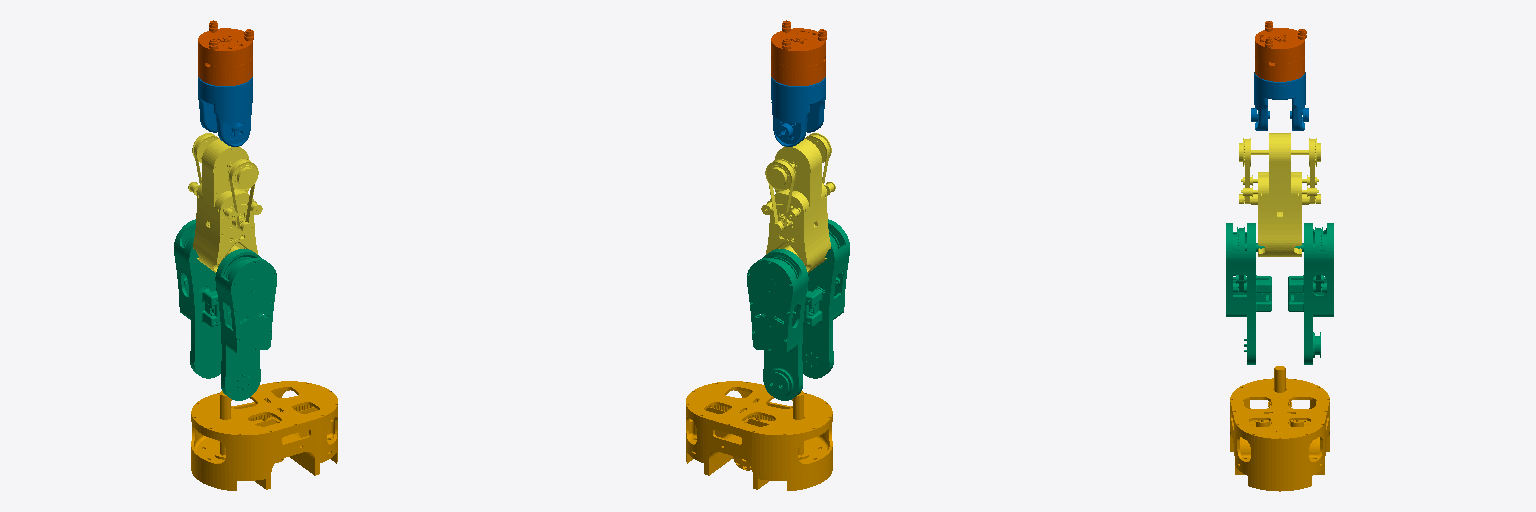
robot.urdf — robot_arm_5axis_centric:
<?xml version="1.0"?>
<robot name="robot_arm_5axis_centric">

  <link name="link1">
    <inertial>
      <origin xyz="0 0 0" rpy="0 0 0"/>
      <mass value="1.0"/>
      <inertia ixx="0.01" ixy="0" ixz="0" iyy="0.01" iyz="0" izz="0.01"/>
    </inertial>
    <visual>
      <origin xyz="0 0 0" rpy="0 0 0"/>
      <geometry>
        <mesh filename="robot_meshes/link1.stl" scale="0.001 0.001 0.001"/>
      </geometry>
    </visual>
    <collision>
      <origin xyz="0 0 0" rpy="0 0 0"/>
      <geometry>
        <mesh filename="robot_meshes/link1.stl" scale="0.001 0.001 0.001"/>
      </geometry>
    </collision>
  </link>

  <link name="link2">
    <inertial>
      <origin xyz="0 0 0" rpy="0 0 0"/>
      <mass value="1.0"/>
      <inertia ixx="0.01" ixy="0" ixz="0" iyy="0.01" iyz="0" izz="0.01"/>
    </inertial>
    <visual>
      <origin xyz="0 0 0" rpy="0 0 0"/>
      <geometry>
        <mesh filename="robot_meshes/link2.stl" scale="0.001 0.001 0.001"/>
      </geometry>
    </visual>
    <collision>
      <origin xyz="0 0 0" rpy="0 0 0"/>
      <geometry>
        <mesh filename="robot_meshes/link2.stl" scale="0.001 0.001 0.001"/>
      </geometry>
    </collision>
  </link>

  <link name="link3">
    <inertial>
      <origin xyz="0 0 0" rpy="0 0 0"/>
      <mass value="1.0"/>
      <inertia ixx="0.01" ixy="0" ixz="0" iyy="0.01" iyz="0" izz="0.01"/>
    </inertial>
    <visual>
      <origin xyz="0 0 0" rpy="0 0 0"/>
      <geometry>
        <mesh filename="robot_meshes/link3.stl" scale="0.001 0.001 0.001"/>
      </geometry>
    </visual>
    <collision>
      <origin xyz="0 0 0" rpy="0 0 0"/>
      <geometry>
        <mesh filename="robot_meshes/link3.stl" scale="0.001 0.001 0.001"/>
      </geometry>
    </collision>
  </link>

  <link name="link4">
    <inertial>
      <origin xyz="0 0 0" rpy="0 0 0"/>
      <mass value="1.0"/>
      <inertia ixx="0.01" ixy="0" ixz="0" iyy="0.01" iyz="0" izz="0.01"/>
    </inertial>
    <visual>
      <origin xyz="0 0 0" rpy="0 0 0"/>
      <geometry>
        <mesh filename="robot_meshes/link4.stl" scale="0.001 0.001 0.001"/>
      </geometry>
    </visual>
    <collision>
      <origin xyz="0 0 0" rpy="0 0 0"/>
      <geometry>
        <mesh filename="robot_meshes/link4.stl" scale="0.001 0.001 0.001"/>
      </geometry>
    </collision>
  </link>

  <link name="link5">
    <inertial>
      <origin xyz="0 0 0" rpy="0 0 0"/>
      <mass value="1.0"/>
      <inertia ixx="0.01" ixy="0" ixz="0" iyy="0.01" iyz="0" izz="0.01"/>
    </inertial>
    <visual>
      <origin xyz="0 0 0" rpy="0 0 0"/>
      <geometry>
        <mesh filename="robot_meshes/link5.stl" scale="0.001 0.001 0.001"/>
      </geometry>
    </visual>
    <collision>
      <origin xyz="0 0 0" rpy="0 0 0"/>
      <geometry>
        <mesh filename="robot_meshes/link5.stl" scale="0.001 0.001 0.001"/>
      </geometry>
    </collision>
  </link>

  <link name="centric">
    <inertial>
      <origin xyz="0 0 0" rpy="0 0 0"/>
      <mass value="0.5"/>
      <inertia ixx="0.005" ixy="0" ixz="0" iyy="0.005" iyz="0" izz="0.005"/>
    </inertial>
    <visual>
      <origin xyz="0 0 0" rpy="0 0 0"/>
      <geometry>
        <mesh filename="robot_meshes/centric.stl" scale="0.001 0.001 0.001"/>
      </geometry>
    </visual>
    <collision>
      <origin xyz="0 0 0" rpy="0 0 0"/>
      <geometry>
        <mesh filename="robot_meshes/centric.stl" scale="0.001 0.001 0.001"/>
      </geometry>
    </collision>
  </link>

  <link name="centric_end"/>

  <!-- ===== JOINTS ===== -->
  <joint name="joint1" type="revolute">
    <parent link="link1"/><child link="link2"/>
    <origin xyz="-0.0945 0 0.105" rpy="0 0 0"/>
    <axis xyz="0 0 1"/>
    <limit lower="-3.14" upper="3.14" effort="10" velocity="1"/>
  </joint>

  <joint name="joint2" type="revolute">
    <parent link="link2"/><child link="link3"/>
    <origin xyz="0 0 0.09" rpy="0 0 0"/>
    <axis xyz="0 1 0"/>
    <limit lower="-3.14" upper="3.14" effort="10" velocity="1"/>
  </joint>

  <joint name="joint3" type="revolute">
    <parent link="link3"/><child link="link4"/>
    <origin xyz="0 0 0.22" rpy="0 0 0"/>
    <axis xyz="0 1 0"/>
    <limit lower="-3.14" upper="3.14" effort="10" velocity="1"/>
  </joint>

  <joint name="joint4" type="revolute">
    <parent link="link4"/><child link="link5"/>
    <origin xyz="0 0 0.24" rpy="0 0 0"/>
    <axis xyz="0 1 0"/>
    <limit lower="-3.14" upper="3.14" effort="10" velocity="1"/>
  </joint>

  <joint name="joint5" type="revolute">
    <parent link="link5"/><child link="centric"/>
    <origin xyz="0 0 0.087" rpy="0 0 0"/>
    <axis xyz="0 0 1"/>
    <limit lower="-3.14" upper="3.14" effort="10" velocity="1"/>
  </joint>

  <joint name="centric_fixed" type="fixed">
    <parent link="centric"/><child link="centric_end"/>
    <origin xyz="0 0 0.1245" rpy="0 0 0"/>
  </joint>

</robot>

--- Facts derived from the render (not from the file) ---
Views: 3 orthographic renders of the robot side by side, from view 1: azimuth 30°, elevation 25°; view 2: azimuth 150°, elevation 25°; view 3: azimuth 270°, elevation 25°.
Model robot_arm_5axis_centric with 7 links and 6 joints (5 revolute, 1 fixed), rooted at link1, posed every joint at zero.
Visible links, largest first — view 1: link1, link3, link4, centric, link5; view 2: link1, link3, link4, centric, link5; view 3: link1, link3, link4, centric, link5.
Boxes of the visible links, x1=… form: link1: x1=191, y1=381, x2=337, y2=490; link3: x1=174, y1=219, x2=276, y2=400; link4: x1=188, y1=133, x2=262, y2=272; centric: x1=198, y1=20, x2=253, y2=85; link5: x1=198, y1=77, x2=252, y2=146; link1: x1=686, y1=381, x2=832, y2=490; link3: x1=747, y1=219, x2=849, y2=400; link4: x1=761, y1=133, x2=835, y2=272; centric: x1=771, y1=20, x2=826, y2=85; link5: x1=771, y1=77, x2=825, y2=146; link1: x1=1230, y1=366, x2=1329, y2=491; link3: x1=1226, y1=223, x2=1333, y2=364; link4: x1=1239, y1=133, x2=1320, y2=256; centric: x1=1255, y1=21, x2=1306, y2=81; link5: x1=1251, y1=72, x2=1308, y2=130.
Bounding box of the posed robot: 0.2595 × 0.194 × 0.826 m (x, y, z).
5 mesh visuals loaded from 6 distinct referenced files (5 binary STL); not drawn: 1 (reference not matched to a file when rendering).
